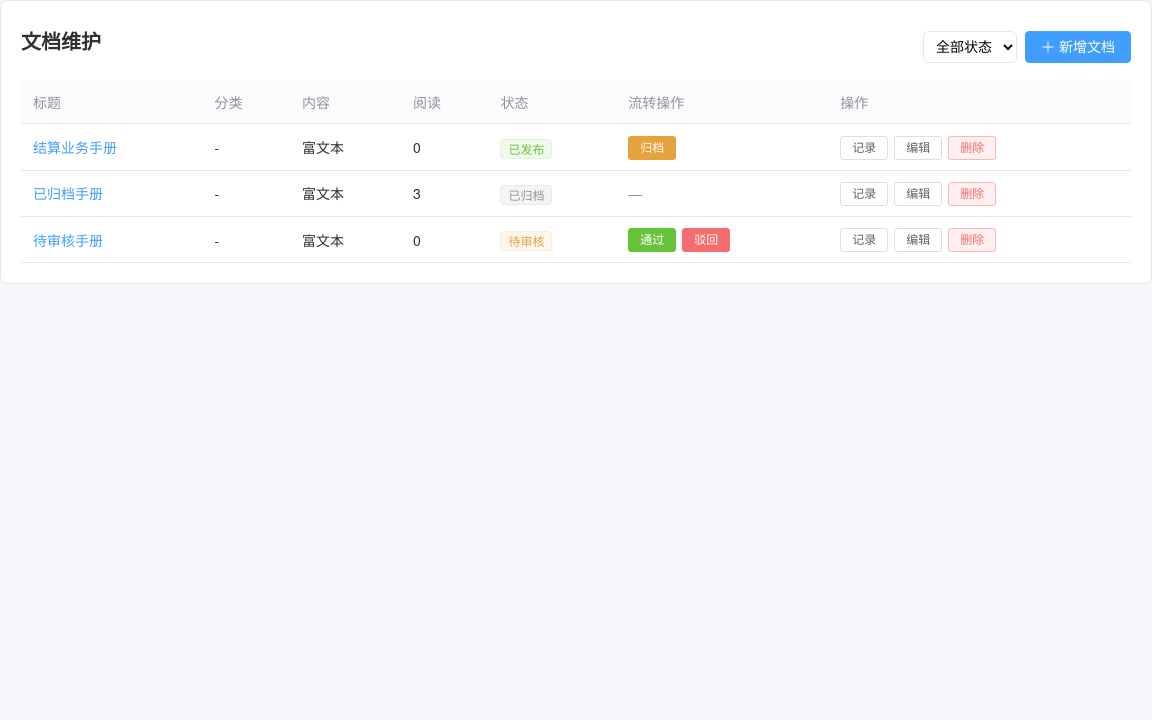
Scenario: DocumentManageView 文档管理页 › 驳回未填写处理意见时阻止提交
Click the button "驳回" at coordinates (706, 240), box left=682, top=228, right=730, bottom=252
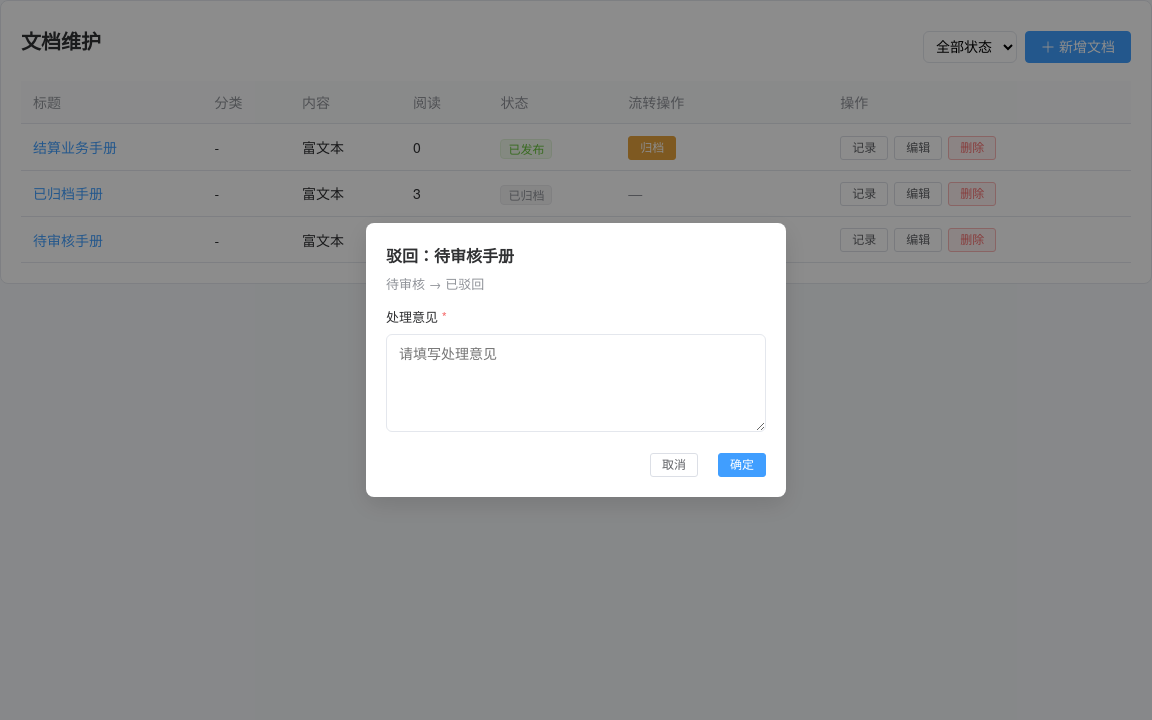
Click the button "确定" at coordinates (742, 465), box left=718, top=453, right=766, bottom=477
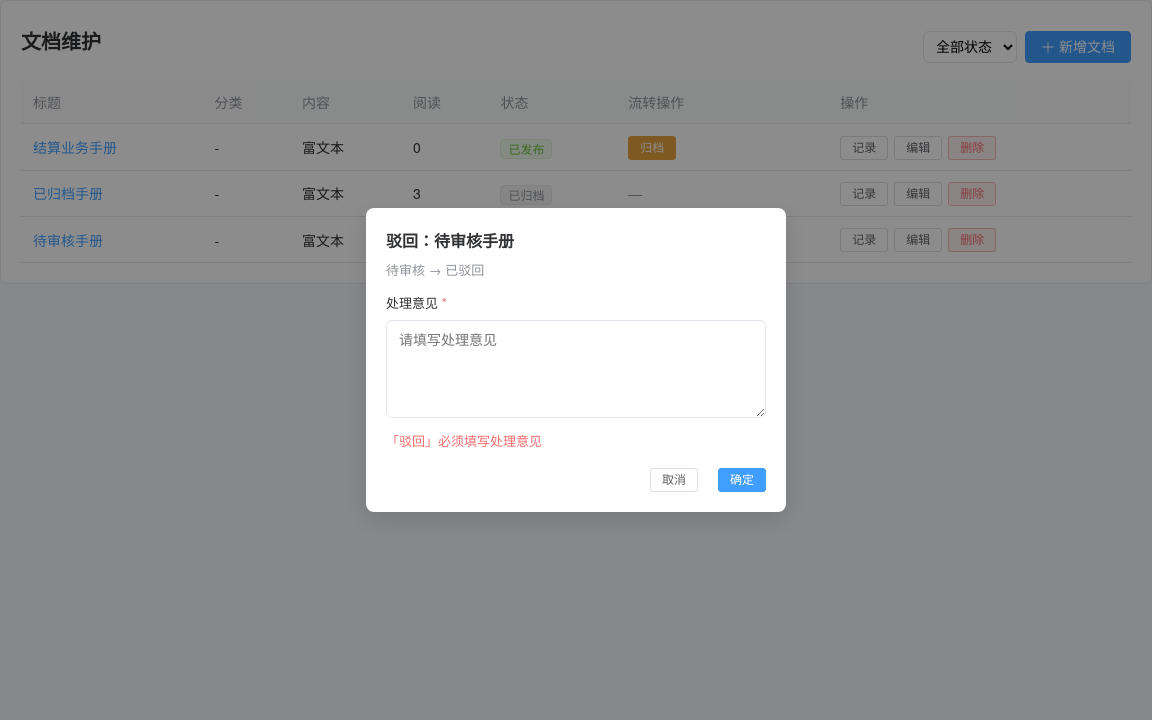
Result: the text "「驳回」必须填写处理意见" is shown at left=386, top=431, right=542, bottom=450
